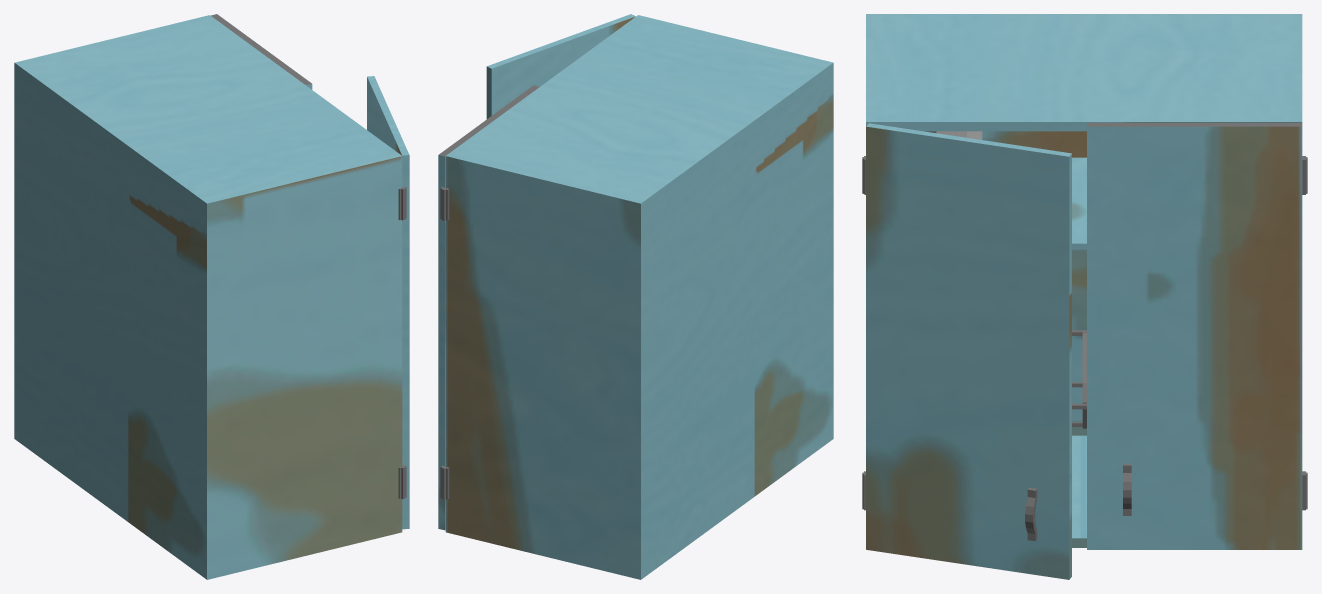
Rendered from shafchik.fbx.
3 renders of one model, left to right at view 1: azimuth 30°, elevation 25°; view 2: azimuth 150°, elevation 25°; view 3: azimuth 270°, elevation 25°, orthographic. The views are drawn at different scales.
Visible parts, largest first — view 1: Cube.006; view 2: Cube.006; view 3: Cube.006.
Part boxes in pixels (x1,y1,x2,y2): Cube.006: (14,14,409,579); Cube.006: (438,14,833,579); Cube.006: (862,14,1307,579).
Size of the model in its own units: 347 by 484 by 459.
